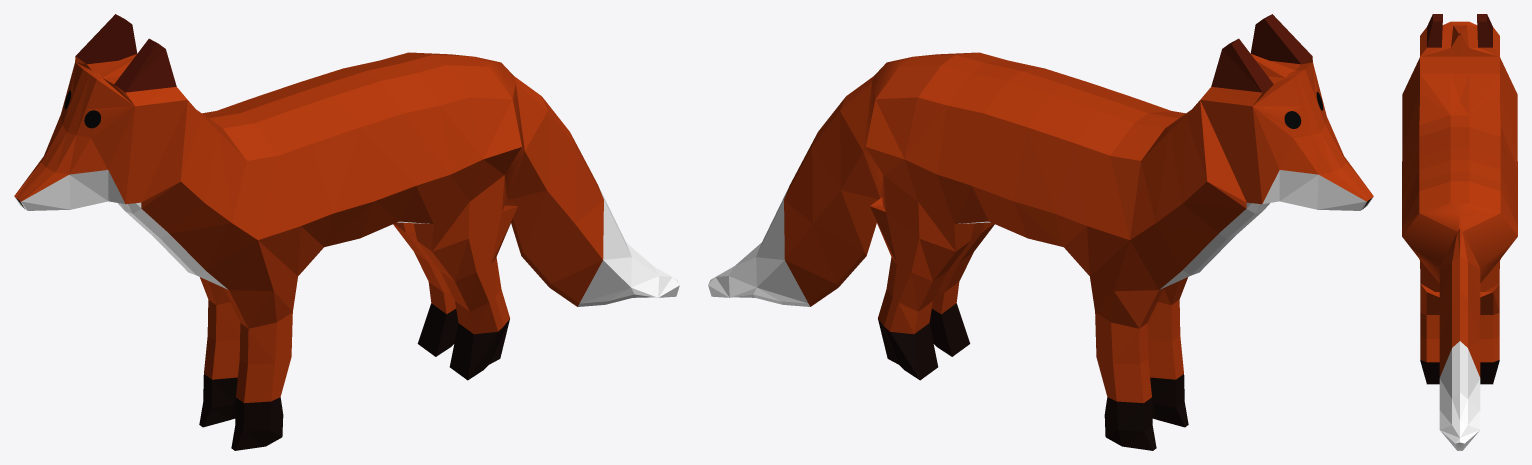
The model's file is fox.FBX.
3 renders of one model, left to right at view 1: azimuth 30°, elevation 25°; view 2: azimuth 150°, elevation 25°; view 3: azimuth 270°, elevation 25°, orthographic. The views are drawn at different scales.
Visible parts, largest first — view 1: Box001; view 2: Box001; view 3: Box001.
Part boxes in pixels (x1,y1,x2,y2): Box001: (14, 14, 679, 450); Box001: (708, 14, 1373, 450); Box001: (1402, 14, 1517, 450).
Bounding box in the file's own units: 59.68 × 37.04 × 13.72.
